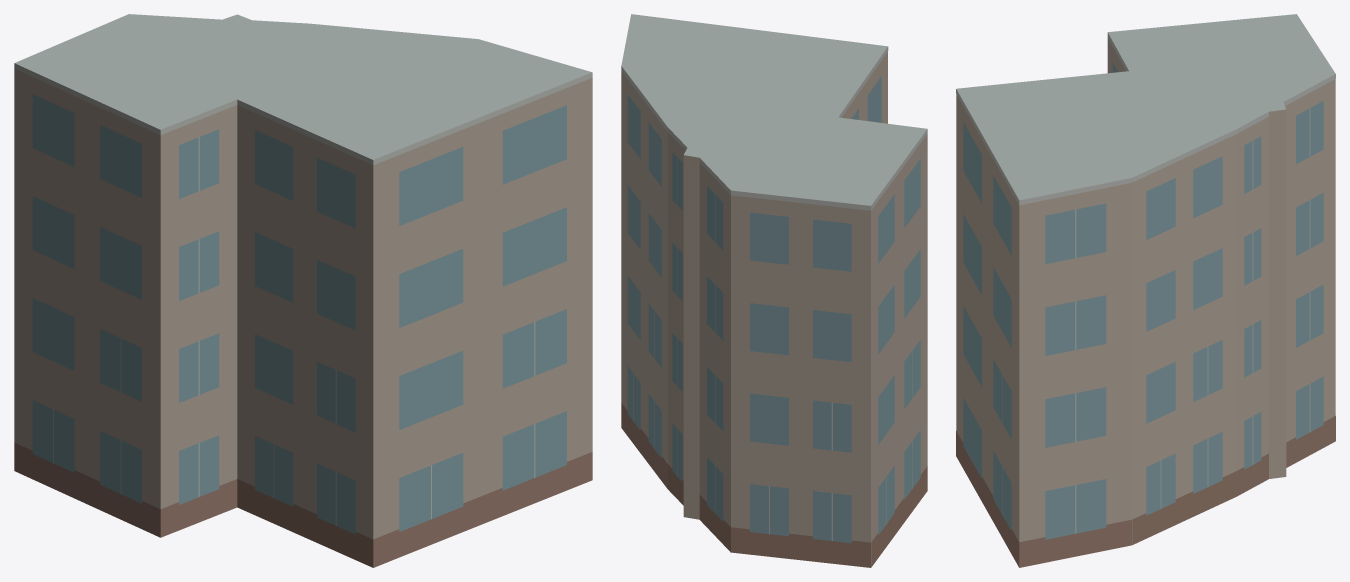
The model's file is survey-upis-32688360.glb.
3 views of the same model, side by side, from view 1: azimuth 30°, elevation 25°; view 2: azimuth 150°, elevation 25°; view 3: azimuth 270°, elevation 25° (orthographic). The views are drawn at different scales.
Parts seen in each view (by area): view 1: survey-upis-32688360.tmp; view 2: survey-upis-32688360.tmp; view 3: survey-upis-32688360.tmp.
Part boxes in pixels (x1,y1,x2,y2): survey-upis-32688360.tmp: (14, 14, 592, 567); survey-upis-32688360.tmp: (621, 14, 927, 567); survey-upis-32688360.tmp: (956, 14, 1335, 567).
Size of the model in its own units: 20.15 by 18.5 by 17.34.
